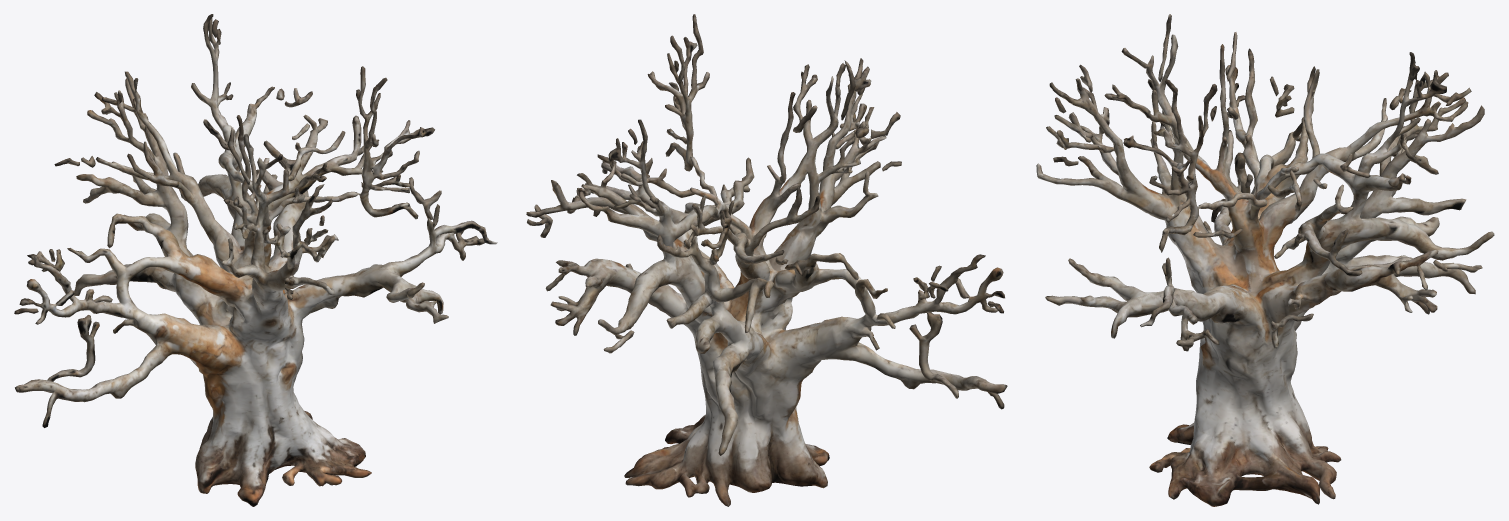
The model's file is AI_Sycamore05.fbx.
3 views of the same model, side by side, from view 1: azimuth 30°, elevation 25°; view 2: azimuth 150°, elevation 25°; view 3: azimuth 270°, elevation 25° (orthographic). The views are drawn at different scales.
Parts seen in each view (by area): view 1: Mesh1.0; view 2: Mesh1.0; view 3: Mesh1.0.
Part boxes in pixels (x1,y1,x2,y2): Mesh1.0: [14, 14, 497, 506]; Mesh1.0: [526, 14, 1007, 506]; Mesh1.0: [1036, 14, 1494, 506].
Size of the model in its own units: 202 by 173 by 167.
1 material, 1 textured.
